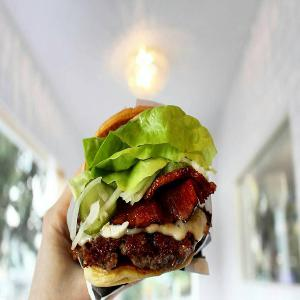cheeseburger_475cal: (71, 102, 223, 288)
